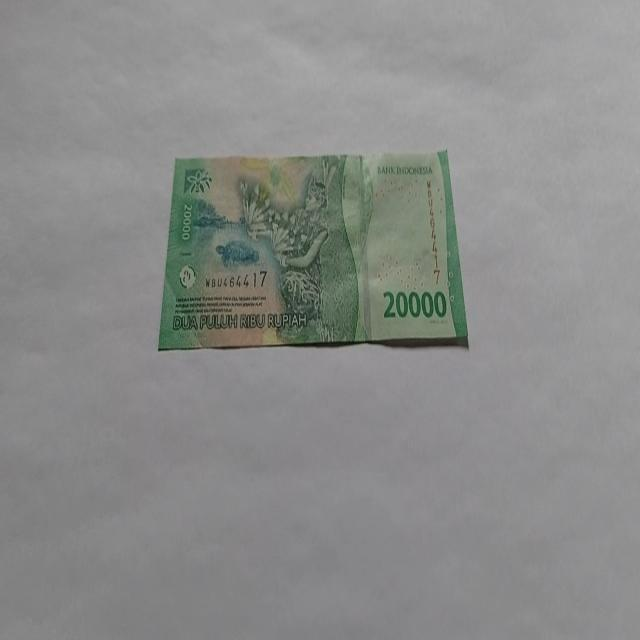dua puluh ribu rupiah: (156, 148, 470, 353)
